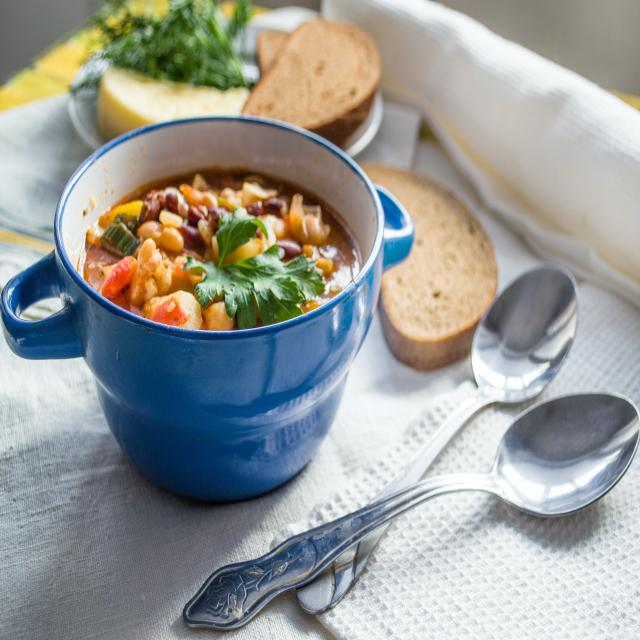Dish: (58, 108, 382, 490)
